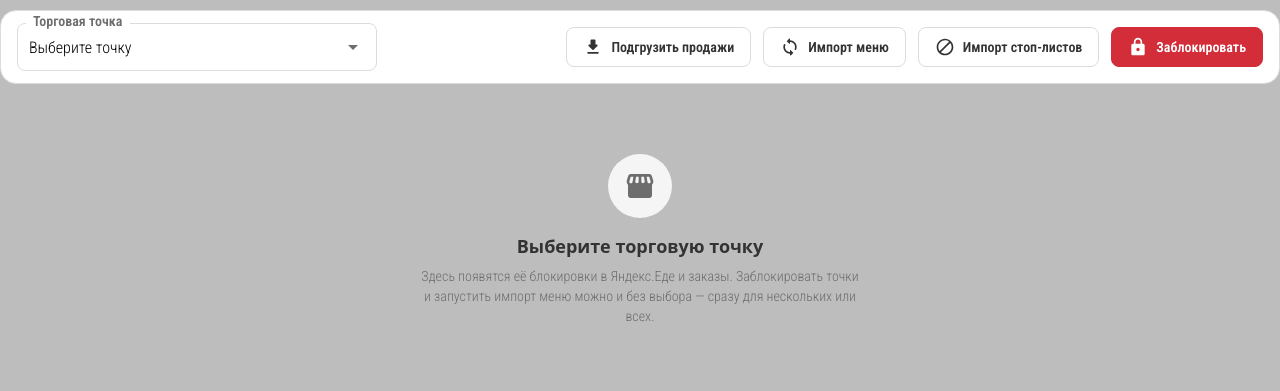
Scenario: loads blocks and today's orders as soon as a location is picked
This screenshot has width=1280, height=391.
Expected: the heading "Выберите торговую точку" is shown, [517, 234, 763, 258]
Click the button named "Торговая точка" at coordinates (80, 47), box [17, 23, 377, 71]
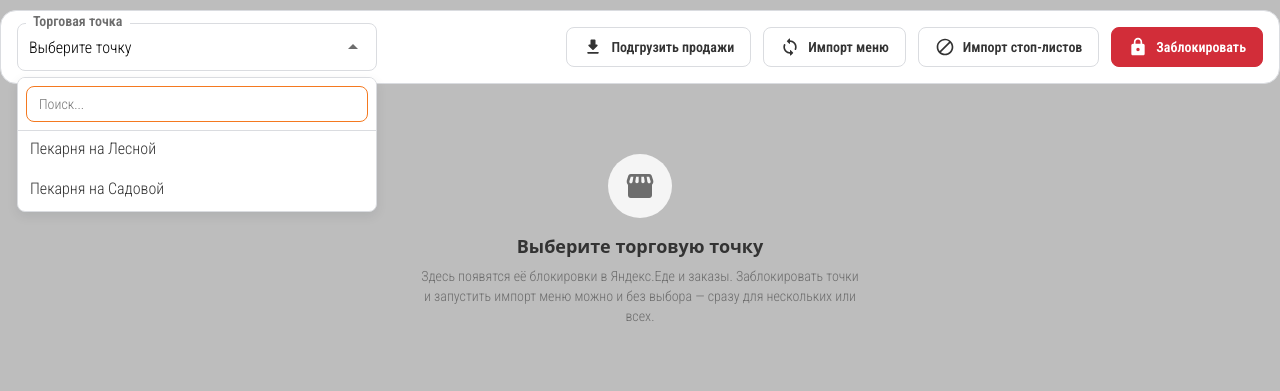
Click the option "Пекарня на Лесной" at coordinates (93, 148), box [30, 139, 156, 158]
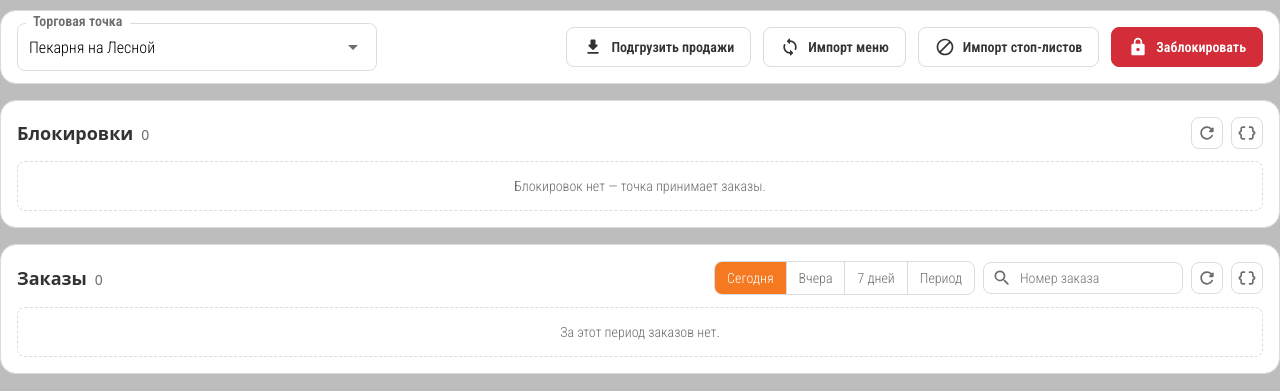
Expected: the text "Блокировок нет — точка принимает заказы." is shown, [17, 161, 1263, 211]
